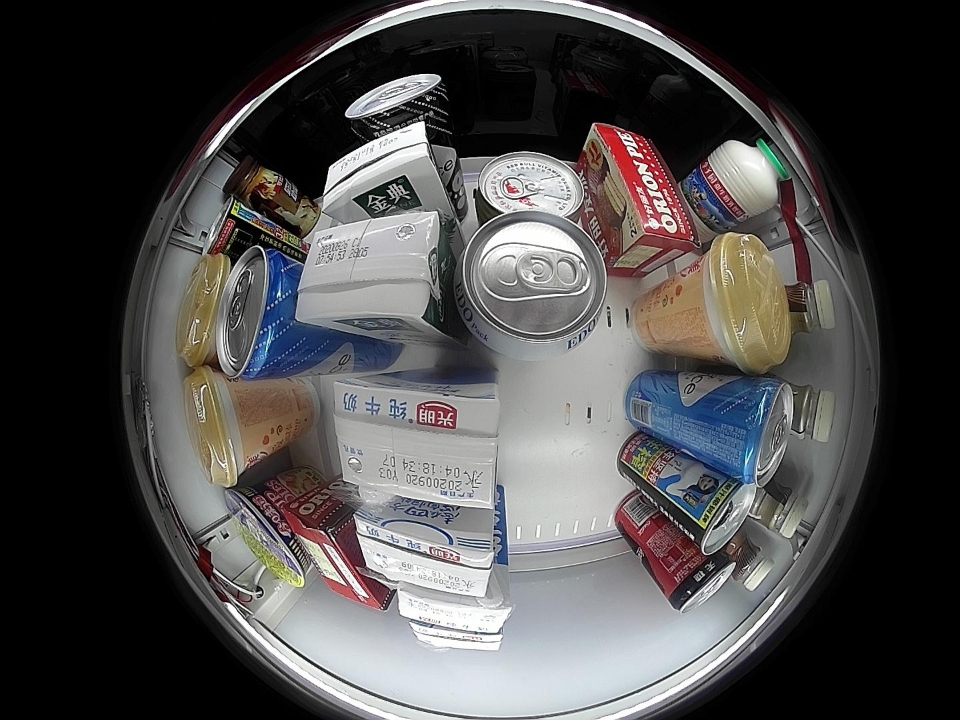haoliyou: (586, 123, 700, 260), (286, 501, 387, 613)
heweidao: (224, 483, 313, 588)
hongniu2: (476, 151, 586, 222)
jindian: (296, 211, 450, 332), (320, 122, 444, 217)
kafei: (745, 478, 810, 539), (774, 382, 835, 442), (782, 279, 836, 339), (723, 532, 775, 592)
lingdukele: (664, 548, 736, 614)
liziyuan: (705, 136, 789, 222)
lujikafei: (223, 154, 284, 210)
niunai: (331, 376, 499, 511), (351, 505, 497, 598), (398, 582, 512, 633), (407, 623, 506, 655)
qingdaowangzi-1: (344, 73, 453, 140)
qingdaowangzi-2: (217, 244, 299, 379), (714, 377, 793, 487)
rusuanjunqishui: (455, 212, 608, 357)
yezhi: (688, 476, 758, 556), (200, 196, 251, 258)
youlemei: (693, 231, 792, 375), (183, 367, 257, 487), (176, 254, 232, 367)
